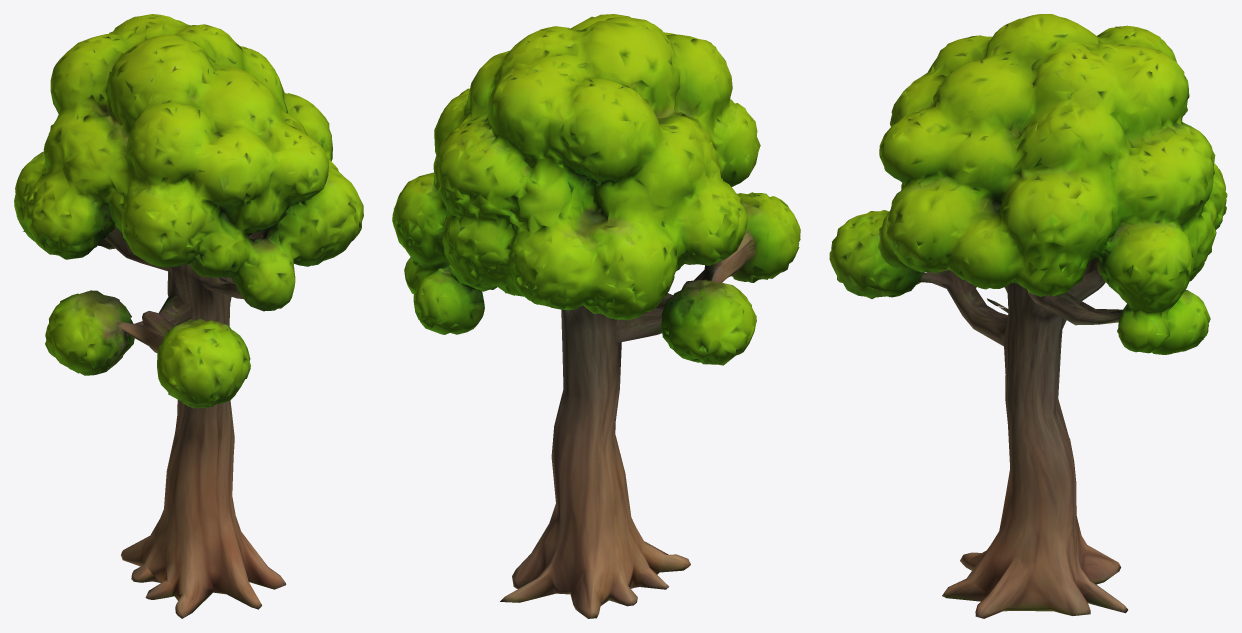
Rendered from tree_round.glb.
3 renders of one model, left to right at view 1: azimuth 30°, elevation 25°; view 2: azimuth 150°, elevation 25°; view 3: azimuth 270°, elevation 25°, orthographic. The views are drawn at different scales.
Bounding box in the file's own units: 1.12 × 2 × 1.3.
1 material, 1 textured.
